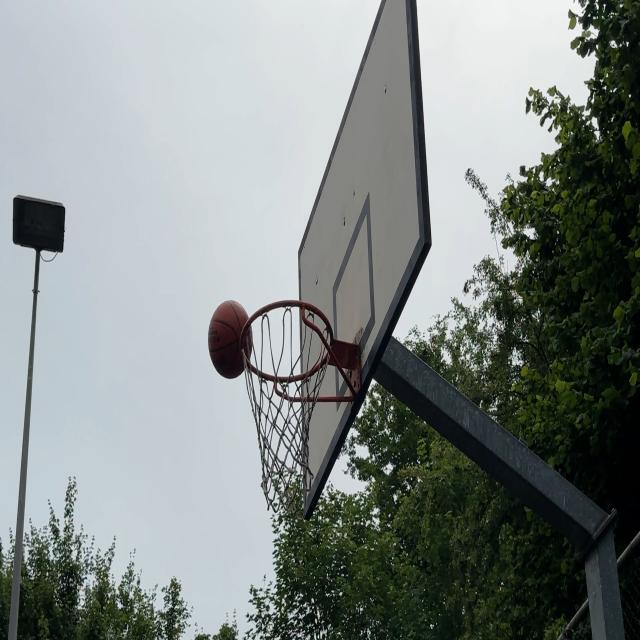rebound_hit: (209, 300, 255, 378)
